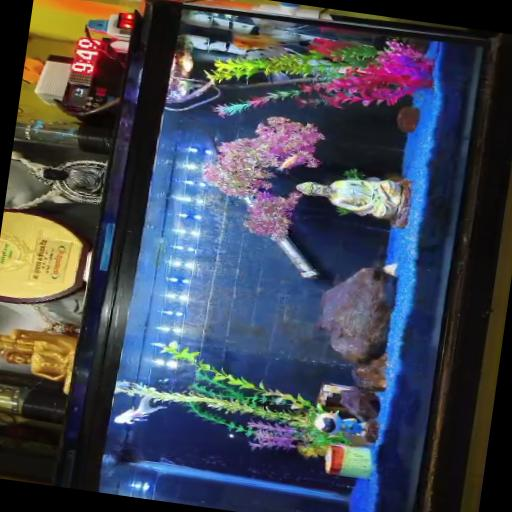Fish: (115, 396, 167, 423), (233, 32, 281, 50), (280, 154, 297, 169), (268, 71, 290, 82)
